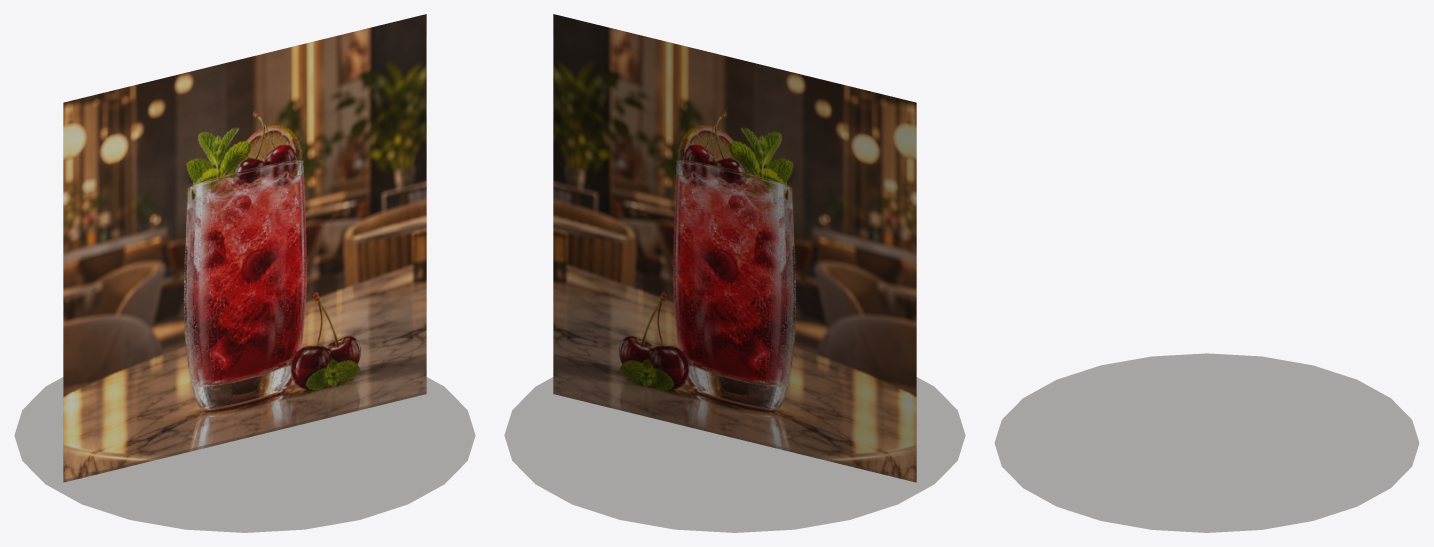
The model's file is cherry-mint-sparkler.glb.
The picture shows the model from 3 angles, left to right: view 1: azimuth 30°, elevation 25°; view 2: azimuth 150°, elevation 25°; view 3: azimuth 270°, elevation 25°; orthographic projection. The views are drawn at different scales.
Parts seen in each view (by area): view 1: ProductCard; view 2: ProductCard; view 3: ProductCard.
Part boxes in pixels (x1=…): ProductCard: x1=14, y1=14, x2=475, y2=532; ProductCard: x1=504, y1=14, x2=965, y2=532; ProductCard: x1=995, y1=353, x2=1418, y2=532.
Bounding box in the file's own units: 0.176 × 0.16 × 0.176.
2 materials, 1 textured.
